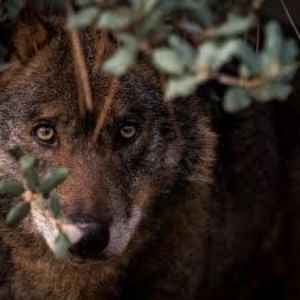wolf: (13, 29, 235, 292)
